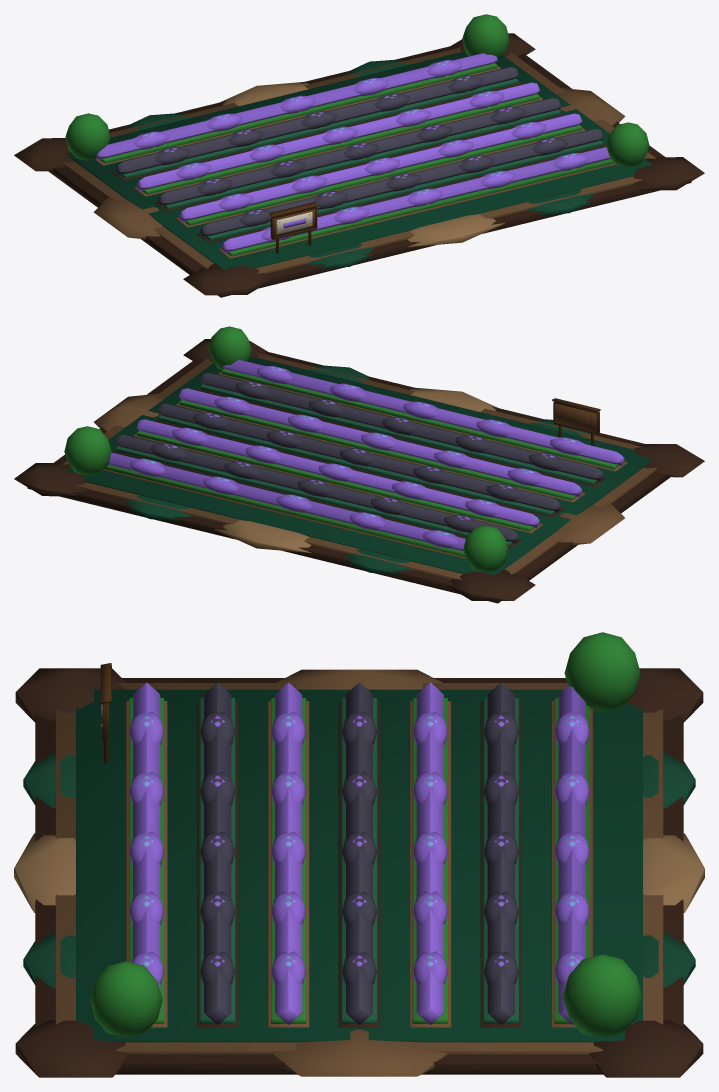
File: lavender_field.glb
The picture shows the model from 3 angles, top to bottom: view 1: azimuth 30°, elevation 25°; view 2: azimuth 150°, elevation 25°; view 3: azimuth 270°, elevation 25°; orthographic projection. The views are drawn at different scales.
Parts seen in each view (by area): view 1: lavender_field; view 2: lavender_field; view 3: lavender_field.
Boxes of the visible parts, x1,y1,x2,y2 form: lavender_field: [14, 14, 704, 297]; lavender_field: [14, 326, 704, 603]; lavender_field: [14, 632, 704, 1077].
Bounding box in the file's own units: 19.1 × 1.92 × 13.64.
